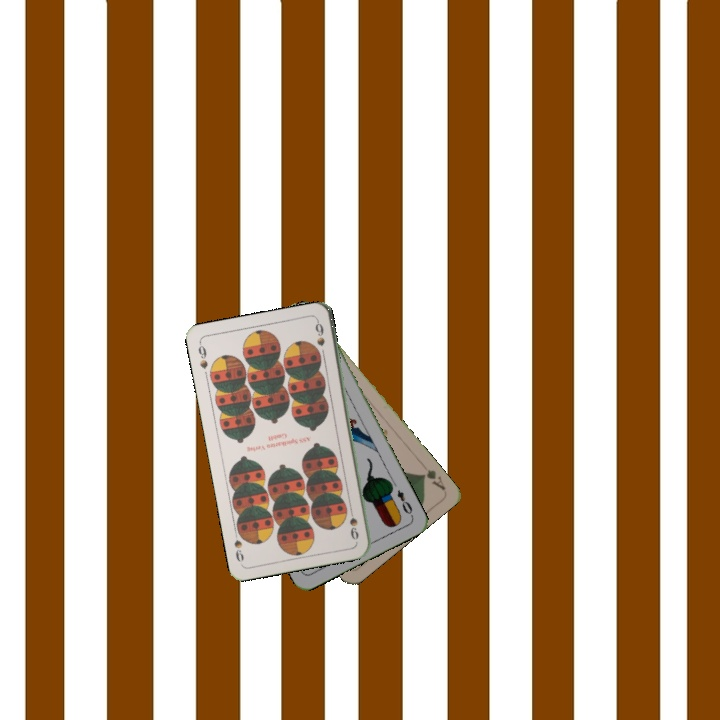EO: (393, 486, 416, 519)
GA: (417, 465, 448, 493)
S9: (345, 503, 361, 542), (194, 339, 210, 371)
